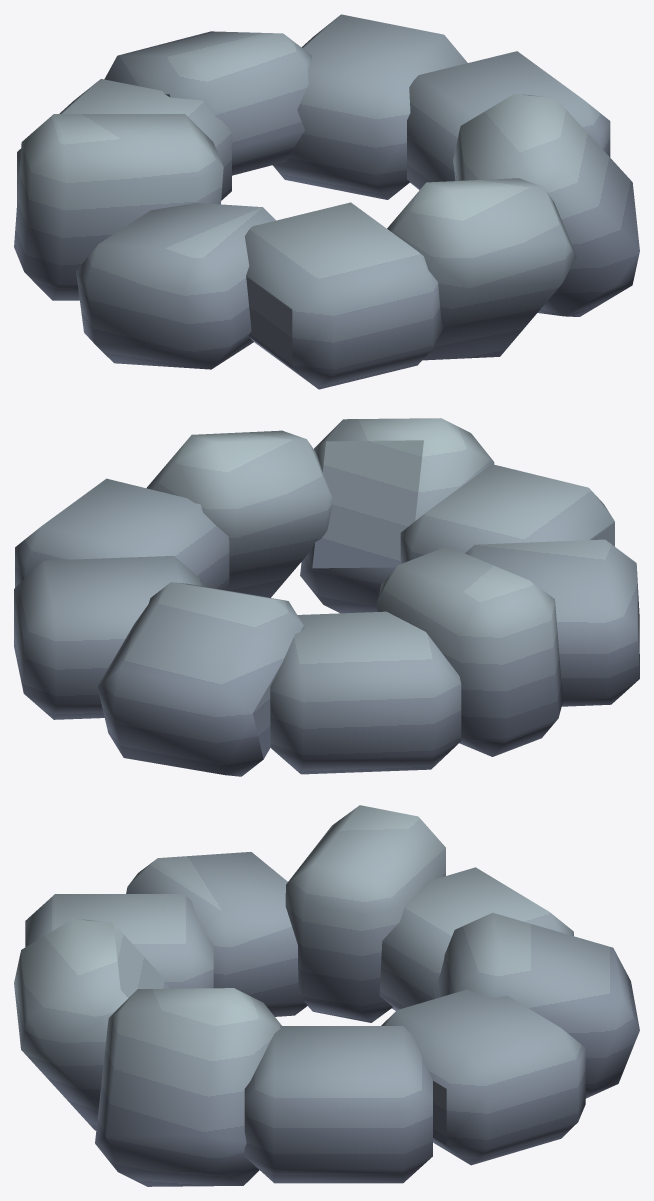
The model's file is stone_ring.FBX.
3 views of the same model, one above another, from view 1: azimuth 30°, elevation 25°; view 2: azimuth 150°, elevation 25°; view 3: azimuth 270°, elevation 25° (orthographic). The views are drawn at different scales.
Parts seen in each view (by area): view 1: stone_ring; view 2: stone_ring; view 3: stone_ring.
Boxes of the visible parts, <box> form: stone_ring: <box>14,14,639,389</box>; stone_ring: <box>14,418,639,776</box>; stone_ring: <box>14,805,639,1186</box>.
Size of the model in its own units: 14.84 by 5.11 by 15.24.
